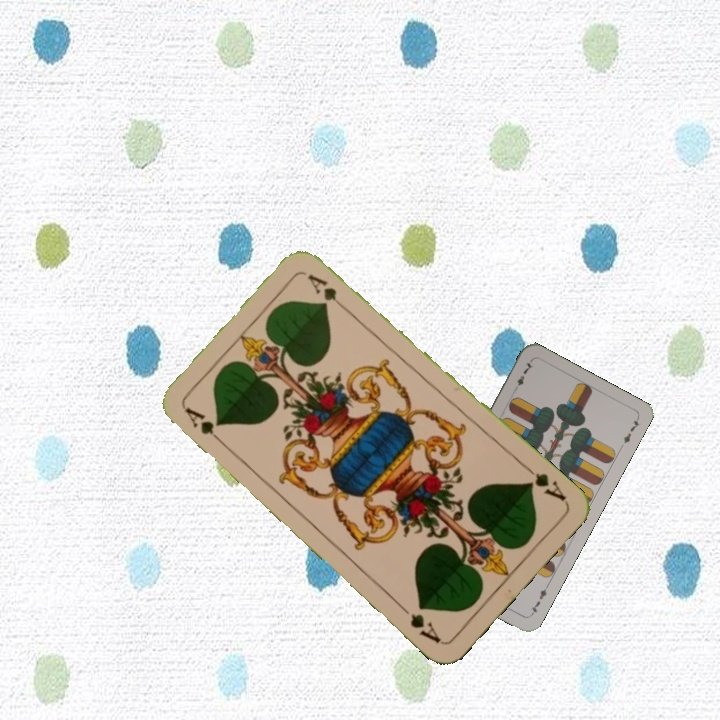E7: (510, 357, 536, 394), (527, 580, 551, 618)
GA: (181, 403, 229, 449), (519, 460, 569, 504)
